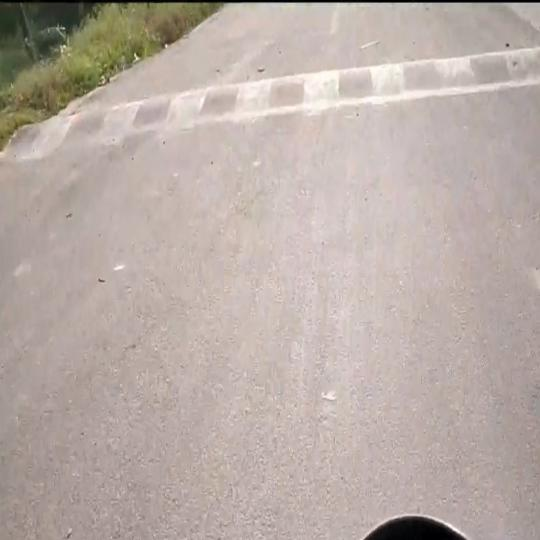Speed Bump: (0, 45, 540, 154)
